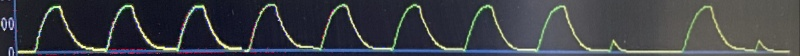normal_volume: (13, 0, 784, 56)
